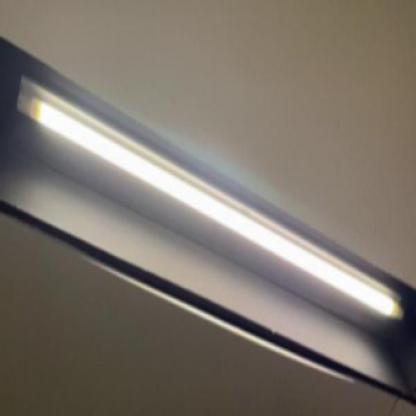light_on: (7, 67, 408, 326)
